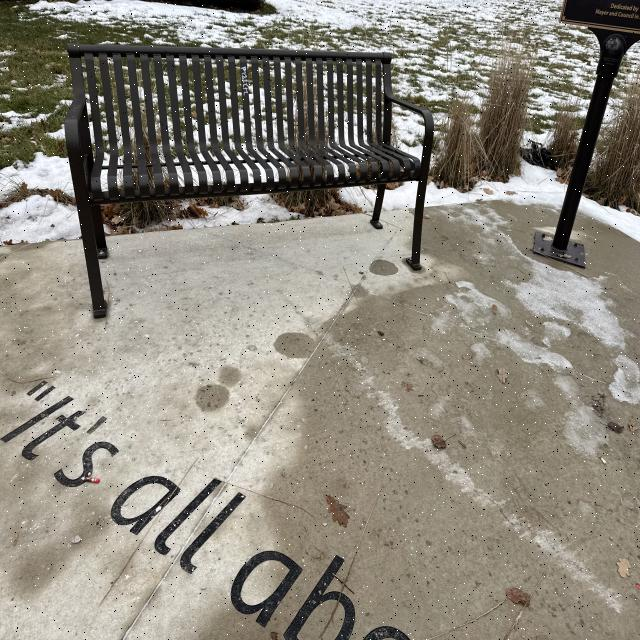Bench: (59, 40, 439, 284)
